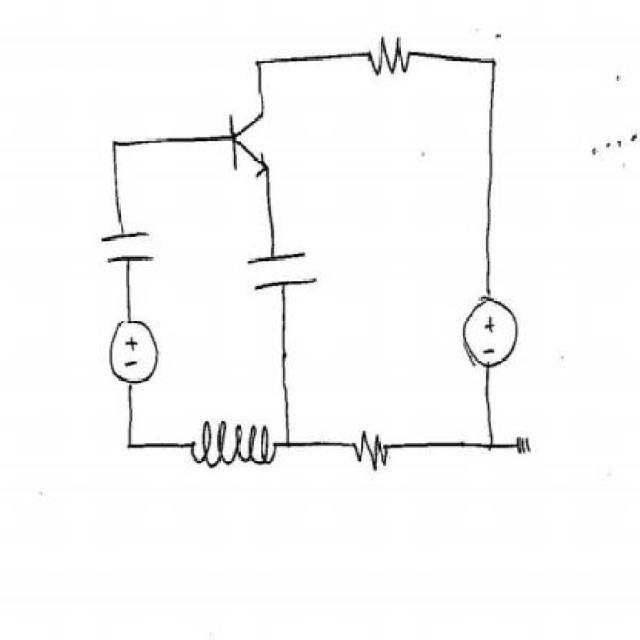capacitor: (247, 247, 327, 306), (93, 220, 165, 280)
ground: (510, 418, 552, 472)
inductor: (190, 405, 280, 480)
resistor: (361, 27, 421, 90), (350, 422, 403, 472)
transistor: (212, 98, 282, 184)
voltage_source: (449, 291, 529, 372), (104, 310, 164, 397)
